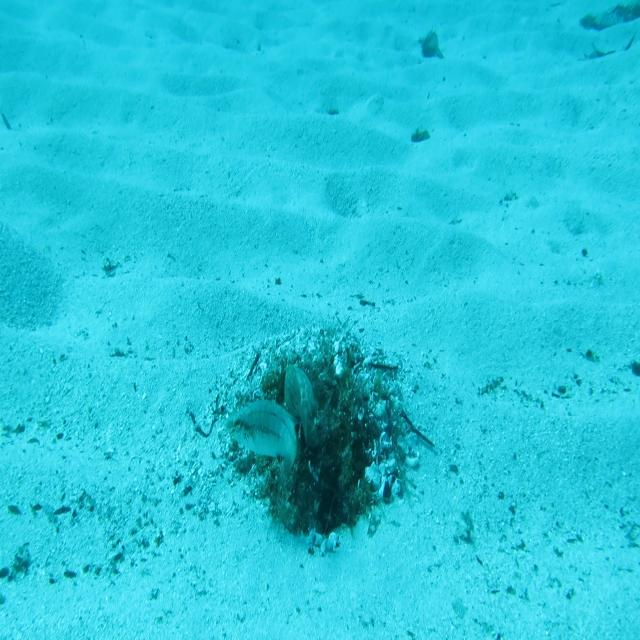NIP_IN: (283, 360, 321, 450)
female: (222, 397, 298, 492)
nest: (210, 306, 423, 560)
vegetation: (574, 0, 640, 66), (414, 34, 447, 60), (410, 132, 430, 144)
